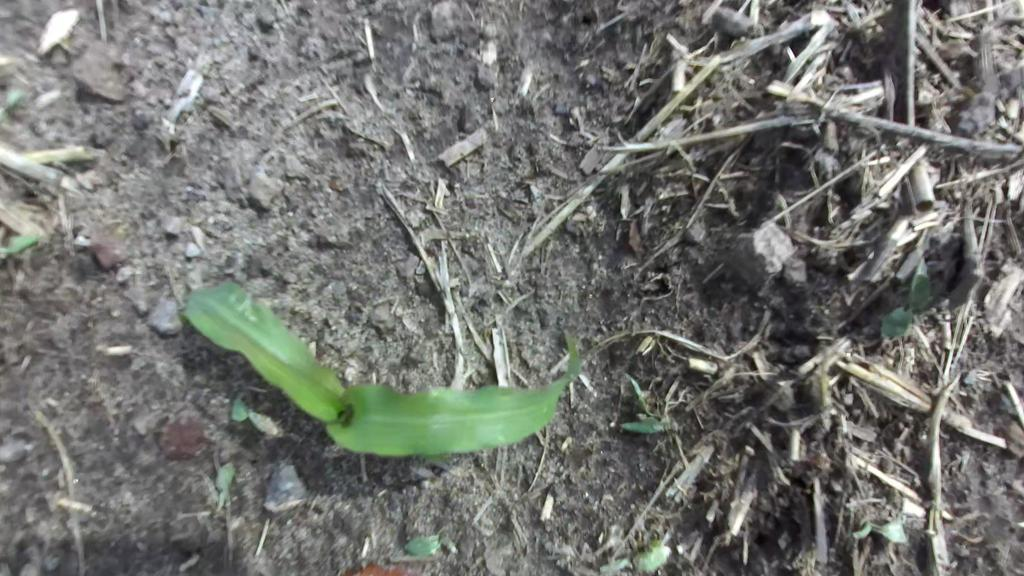BroWeed: (865, 256, 951, 348), (222, 394, 288, 447), (598, 544, 676, 576), (623, 366, 663, 423), (851, 511, 908, 550), (402, 527, 451, 561), (0, 225, 40, 263), (212, 460, 236, 513), (73, 161, 109, 196), (194, 466, 223, 509), (0, 83, 31, 123), (619, 413, 667, 434), (437, 532, 464, 556), (59, 172, 86, 195), (640, 531, 665, 555), (57, 33, 80, 59), (49, 46, 68, 65)
Maize: (161, 273, 586, 483)
